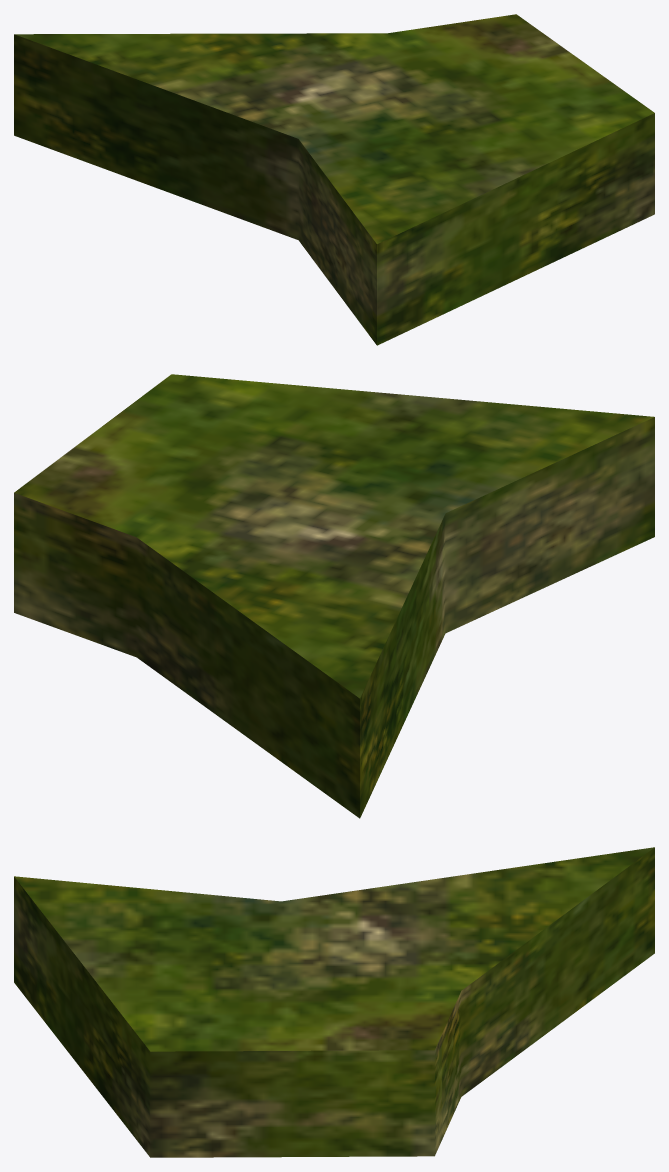
Rendered from ANIMATEDINSTANCES_ROOF_FALL_02__AI.fbx.
The picture shows the model from 3 angles, top to bottom: view 1: azimuth 30°, elevation 25°; view 2: azimuth 150°, elevation 25°; view 3: azimuth 270°, elevation 25°; orthographic projection. The views are drawn at different scales.
Visible parts, largest first — view 1: ANIMATEDINSTANCES_ROOF_FALL_02__AI; view 2: ANIMATEDINSTANCES_ROOF_FALL_02__AI; view 3: ANIMATEDINSTANCES_ROOF_FALL_02__AI.
Part boxes in pixels (box(x1,y1,x2,y2)): ANIMATEDINSTANCES_ROOF_FALL_02__AI: box(14, 14, 654, 345); ANIMATEDINSTANCES_ROOF_FALL_02__AI: box(14, 374, 654, 818); ANIMATEDINSTANCES_ROOF_FALL_02__AI: box(14, 847, 654, 1157).
Size of the model in its own units: 10321 by 2500 by 13677.
1 material, 1 textured.
